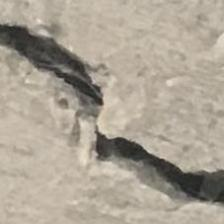Crack: (0, 19, 224, 222)
